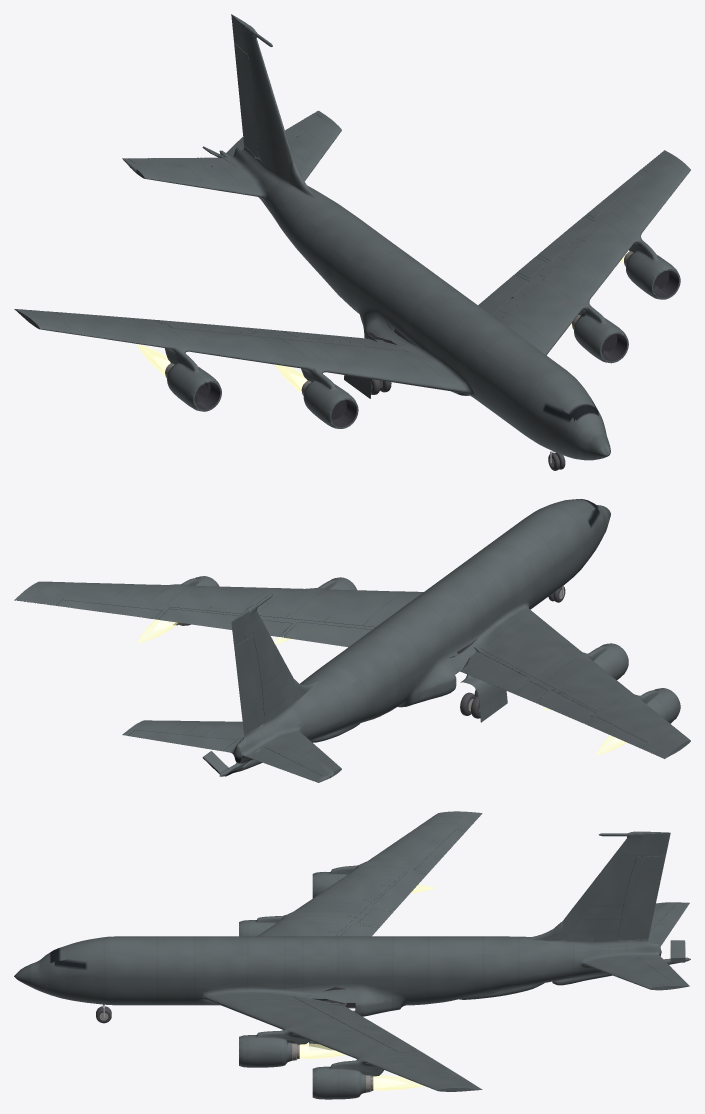
3 views of the same model, one above another, from view 1: azimuth 30°, elevation 25°; view 2: azimuth 150°, elevation 25°; view 3: azimuth 270°, elevation 25° (orthographic). The views are drawn at different scales.
Visible parts, largest first — view 1: fsim:section:centre, fsim:section:right-wing, fsim:section:left-wing, fsim:section:tail, fsim:section:nose, fsim:flaps (×2), fsim:rudder, fsim:elevator; view 2: fsim:section:centre, fsim:section:tail, fsim:section:left-wing, fsim:section:right-wing, fsim:section:nose, fsim:flaps (×4), fsim:rudder, fsim:elevator (×2), fsim:aileron (×2), Right Main Gear door, fsim:afterburner:2; view 3: fsim:section:centre, fsim:section:tail, fsim:section:nose, fsim:section:left-wing, fsim:section:right-wing, fsim:rudder, fsim:flaps (×2), fsim:elevator (×2), fsim:aileron, fsim:afterburner:2, fsim:afterburner:0.
Boxes of the visible parts, x1=… form: fsim:section:centre: x1=165, y1=185, x2=680, y2=428; fsim:section:right-wing: x1=14, y1=309, x2=469, y2=393; fsim:section:left-wing: x1=492, y1=150, x2=690, y2=355; fsim:section:tail: x1=122, y1=14, x2=341, y2=231; fsim:section:nose: x1=469, y1=338, x2=610, y2=460; fsim:flaps (×2): x1=478, y1=216, x2=594, y2=315; fsim:rudder: x1=234, y1=42, x2=258, y2=158; fsim:elevator: x1=128, y1=157, x2=235, y2=166; fsim:section:centre: x1=175, y1=529, x2=680, y2=742; fsim:section:tail: x1=122, y1=593, x2=341, y2=782; fsim:section:left-wing: x1=14, y1=581, x2=423, y2=637; fsim:section:right-wing: x1=448, y1=606, x2=690, y2=758; fsim:section:nose: x1=499, y1=499, x2=610, y2=608; fsim:flaps (×4): x1=158, y1=609, x2=594, y2=723; fsim:rudder: x1=234, y1=635, x2=264, y2=734; fsim:elevator (×2): x1=128, y1=730, x2=321, y2=781; fsim:aileron (×2): x1=56, y1=600, x2=646, y2=748; Right Main Gear door: x1=460, y1=663, x2=507, y2=722; fsim:afterburner:2: x1=137, y1=619, x2=177, y2=643; fsim:section:centre: x1=133, y1=864, x2=546, y2=1099; fsim:section:tail: x1=534, y1=831, x2=690, y2=990; fsim:section:nose: x1=14, y1=936, x2=226, y2=1005; fsim:section:left-wing: x1=205, y1=988, x2=482, y2=1091; fsim:section:right-wing: x1=258, y1=811, x2=482, y2=936; fsim:rudder: x1=618, y1=855, x2=665, y2=940; fsim:flaps (×2): x1=310, y1=872, x2=426, y2=1026; fsim:elevator (×2): x1=637, y1=905, x2=687, y2=984; fsim:aileron: x1=414, y1=829, x2=466, y2=872; fsim:afterburner:2: x1=373, y1=1075, x2=424, y2=1090; fsim:afterburner:0: x1=299, y1=1043, x2=345, y2=1058.
Bounding box in the file's own units: 39.9 × 12.78 × 41.24.
Materials: 11 (1 with a texture image).
